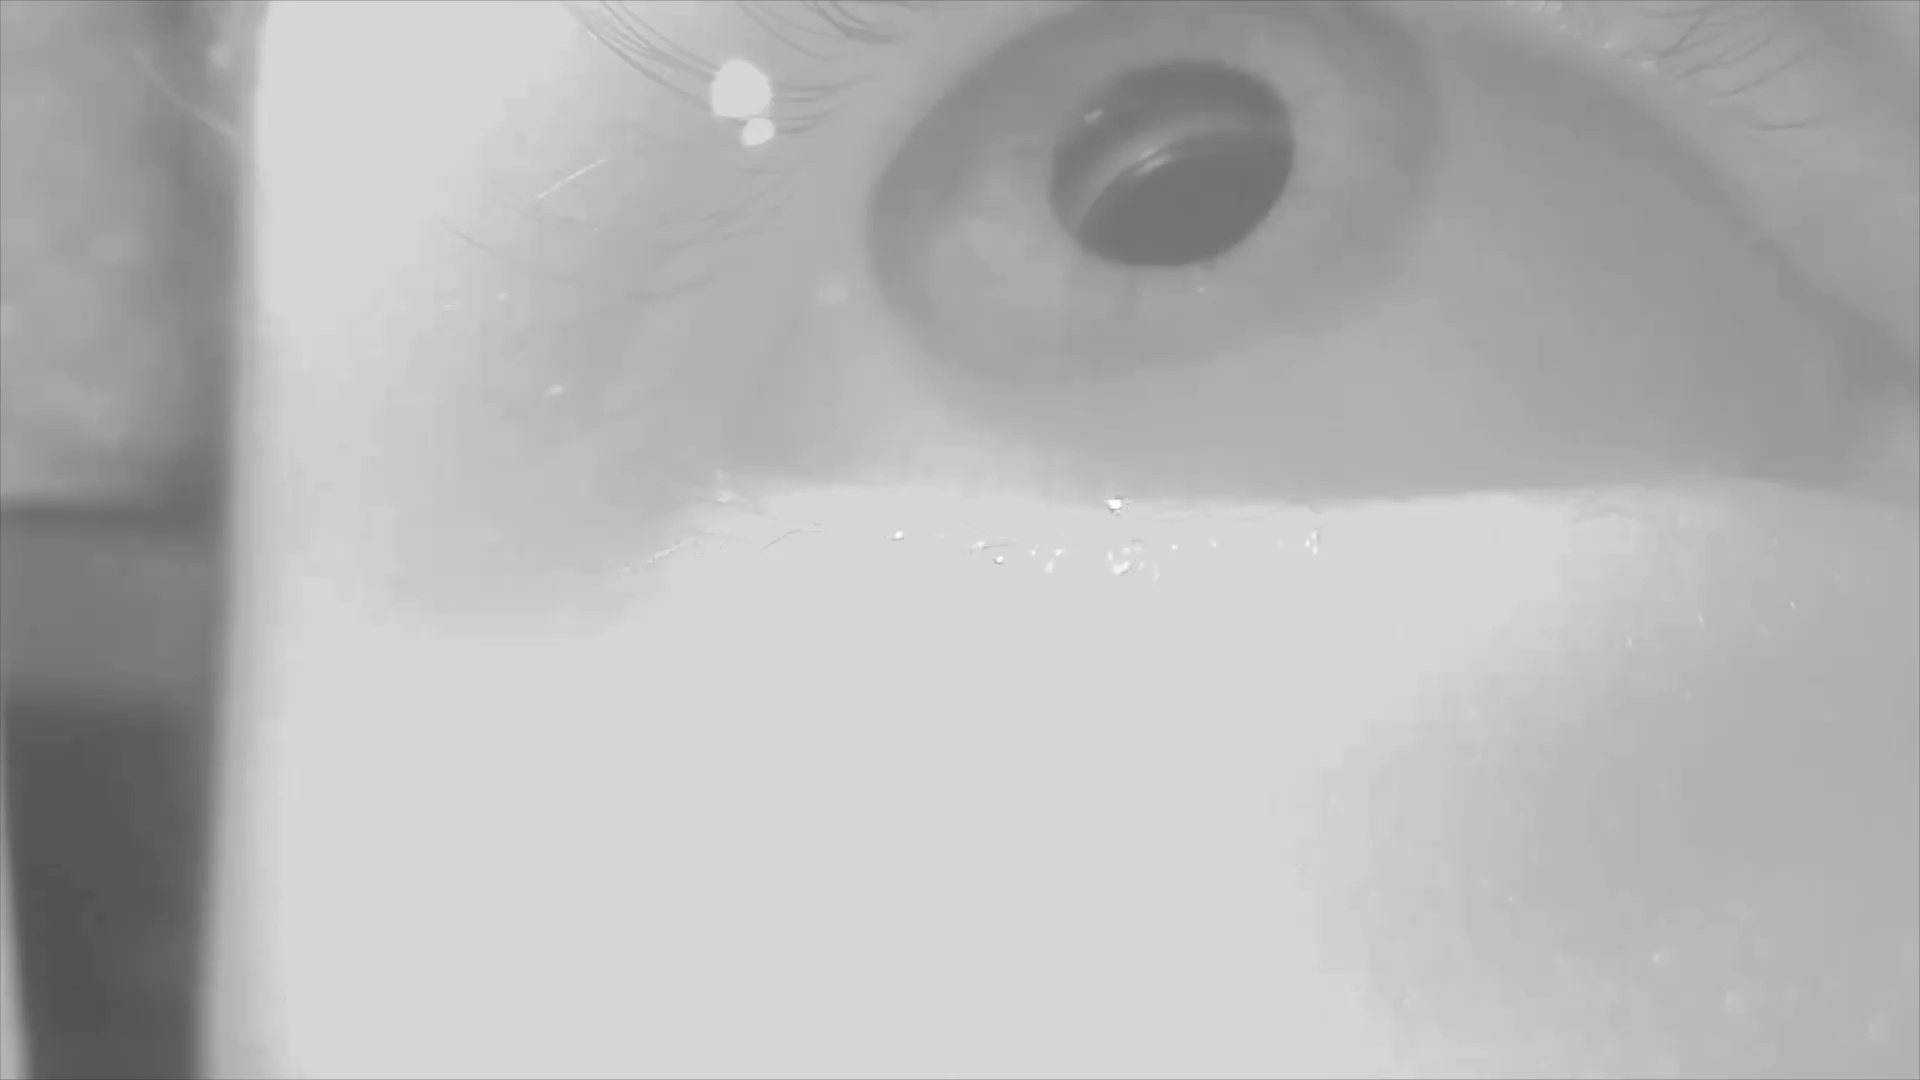pupil: (1047, 58, 1296, 271)
